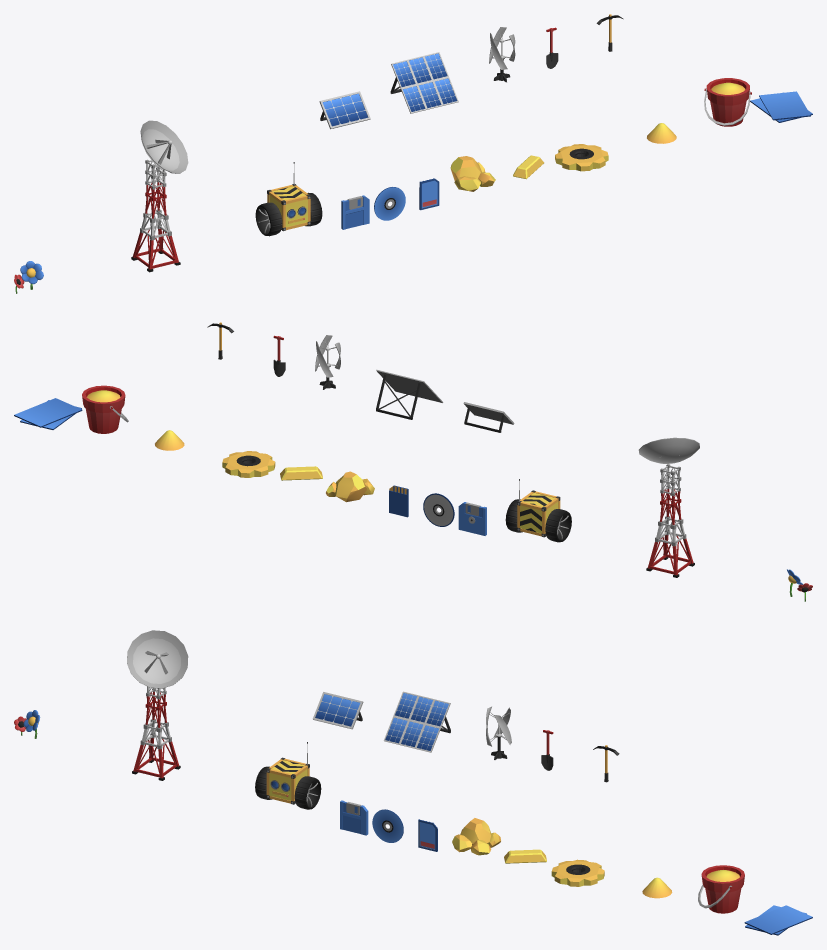
File: robots.fbx
3 renders of one model, top to bottom at view 1: azimuth 30°, elevation 25°; view 2: azimuth 150°, elevation 25°; view 3: azimuth 330°, elevation 25°, orthographic.
Visible parts, largest first — view 1: Solar.001, Cube.008, Sand, Sphere, Cube, Solar, Cube.004, Circle, Icosphere, FloppyDisk, Cylinder.002, Cylinder (+3 smaller); view 2: Cube.008, Sand, Cube, Solar.001, Cube.004, Sphere, Circle, Icosphere, FloppyDisk, Cylinder.002, Cylinder, Solar (+3 smaller); view 3: Sphere, Solar.001, Cube.008, Sand, Cube, Solar, Cube.004, Icosphere, Circle, FloppyDisk, Cylinder.002, Cylinder.001 (+1 smaller).
Part boxes in pixels (x1,y1,x2,y2): Solar.001: (390,52,458,113); Cube.008: (131,159,180,272); Sand: (704,78,751,126); Sphere: (140,120,188,173); Cube: (267,184,310,231); Solar: (319,91,370,129); Cube.004: (750,91,812,122); Circle: (555,144,608,171); Icosphere: (450,156,495,191); FloppyDisk: (341,195,369,229); Cylinder.002: (374,187,405,220); Cylinder: (255,202,282,236); Cube.008: (646,464,694,577); Sand: (82,385,128,433); Cube: (517,490,560,537); Solar.001: (376,369,443,419); Cube.004: (14,398,82,429); Sphere: (638,437,699,463); Circle: (222,451,275,477); Icosphere: (326,471,374,502); FloppyDisk: (458,502,486,535); Cylinder.002: (423,493,454,526); Cylinder: (545,509,571,542); Solar: (463,402,514,432); Sphere: (127,630,188,688); Solar.001: (383,691,450,752); Cube.008: (132,686,180,780); Sand: (698,865,744,913); Cube: (266,757,309,804); Solar: (312,692,363,729); Cube.004: (744,905,812,935); Icosphere: (452,818,500,855); Circle: (551,859,604,886); FloppyDisk: (340,800,368,835); Cylinder.002: (372,809,403,842); Cylinder.001: (294,776,321,809).
Bounding box in the file's own units: 5968 × 1154 × 435.
